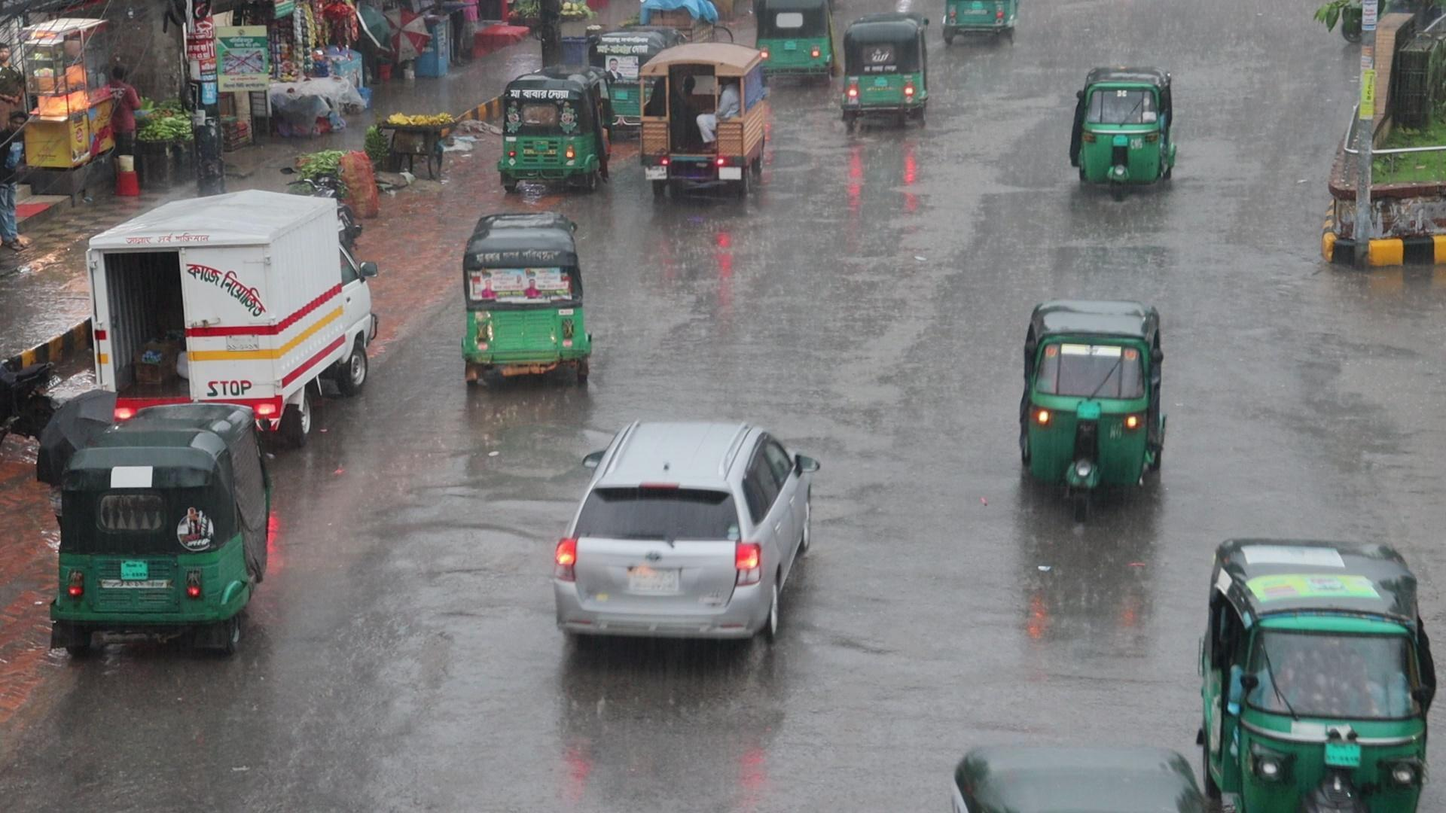Car: (546, 409, 820, 662)
Truck: (636, 37, 767, 202)
